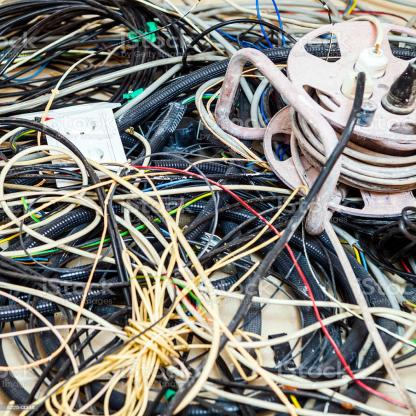wires: (2, 0, 415, 415)
